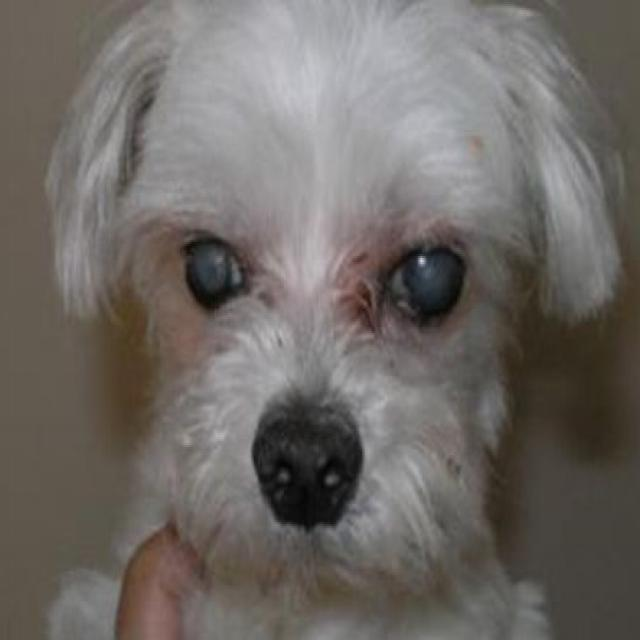eye: (377, 236, 473, 335), (180, 229, 250, 319)
